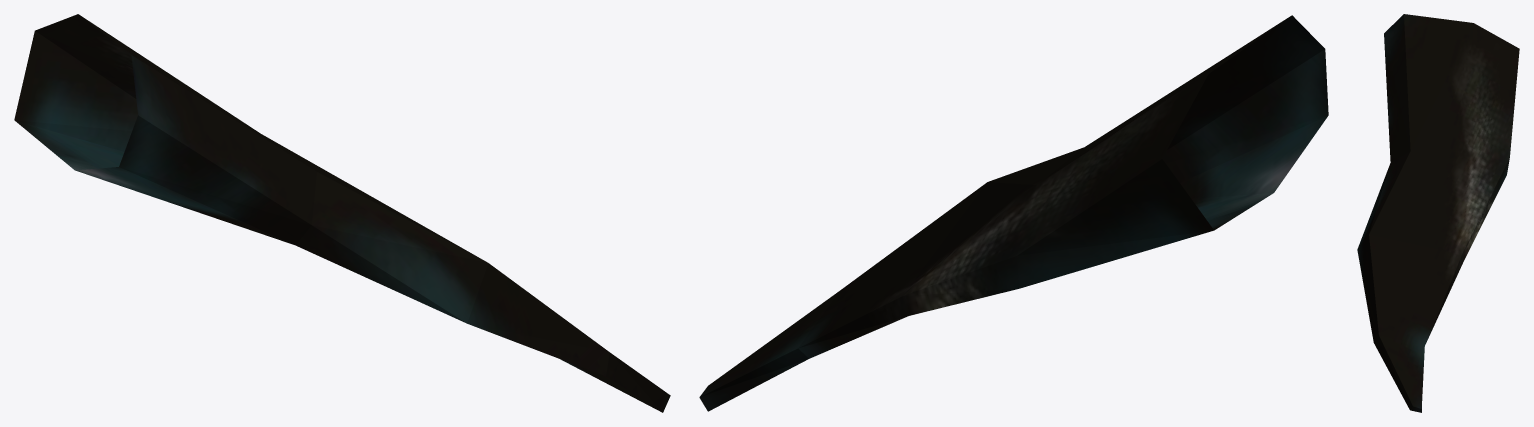
File: Ala_izq.obj
The picture shows the model from 3 angles, left to right: view 1: azimuth 30°, elevation 25°; view 2: azimuth 150°, elevation 25°; view 3: azimuth 270°, elevation 25°; orthographic projection. The views are drawn at different scales.
Parts seen in each view (by area): view 1: Ala_izq; view 2: Ala_izq; view 3: Ala_izq.
Part boxes in pixels (x1=…): Ala_izq: x1=14, y1=14, x2=670, y2=412; Ala_izq: x1=699, y1=15, x2=1328, y2=411; Ala_izq: x1=1357, y1=14, x2=1519, y2=412.
Bounding box in the file's own units: 0.8361 × 0.6948 × 0.3919.
1 material, 1 textured.
